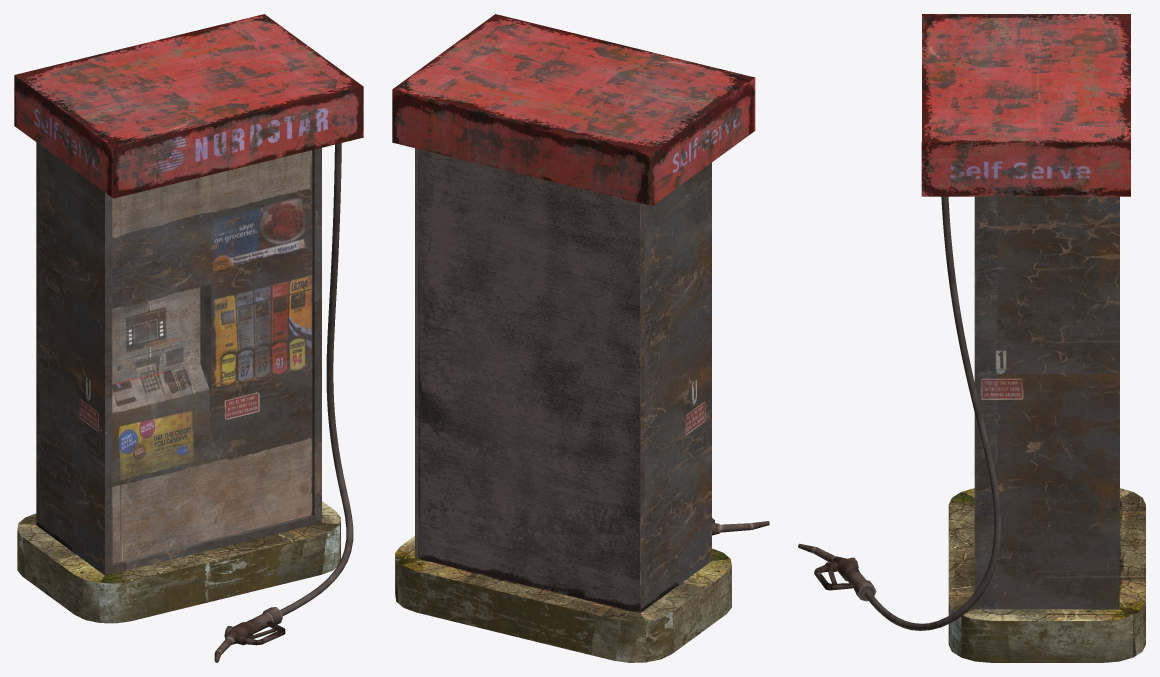
Rendered from gas_pump_old.gltf.
3 renders of one model, left to right at view 1: azimuth 30°, elevation 25°; view 2: azimuth 150°, elevation 25°; view 3: azimuth 270°, elevation 25°, orthographic. The views are drawn at different scales.
Parts seen in each view (by area): view 1: gas_pump_old; view 2: gas_pump_old; view 3: gas_pump_old.
Part boxes in pixels (bbox=[...]): gas_pump_old: bbox=[14, 14, 363, 662]; gas_pump_old: bbox=[392, 14, 769, 662]; gas_pump_old: bbox=[798, 14, 1145, 662].
Size of the model in its own units: 1.12 by 1.98 by 1.21.
Materials: 1 (1 with a texture image).
